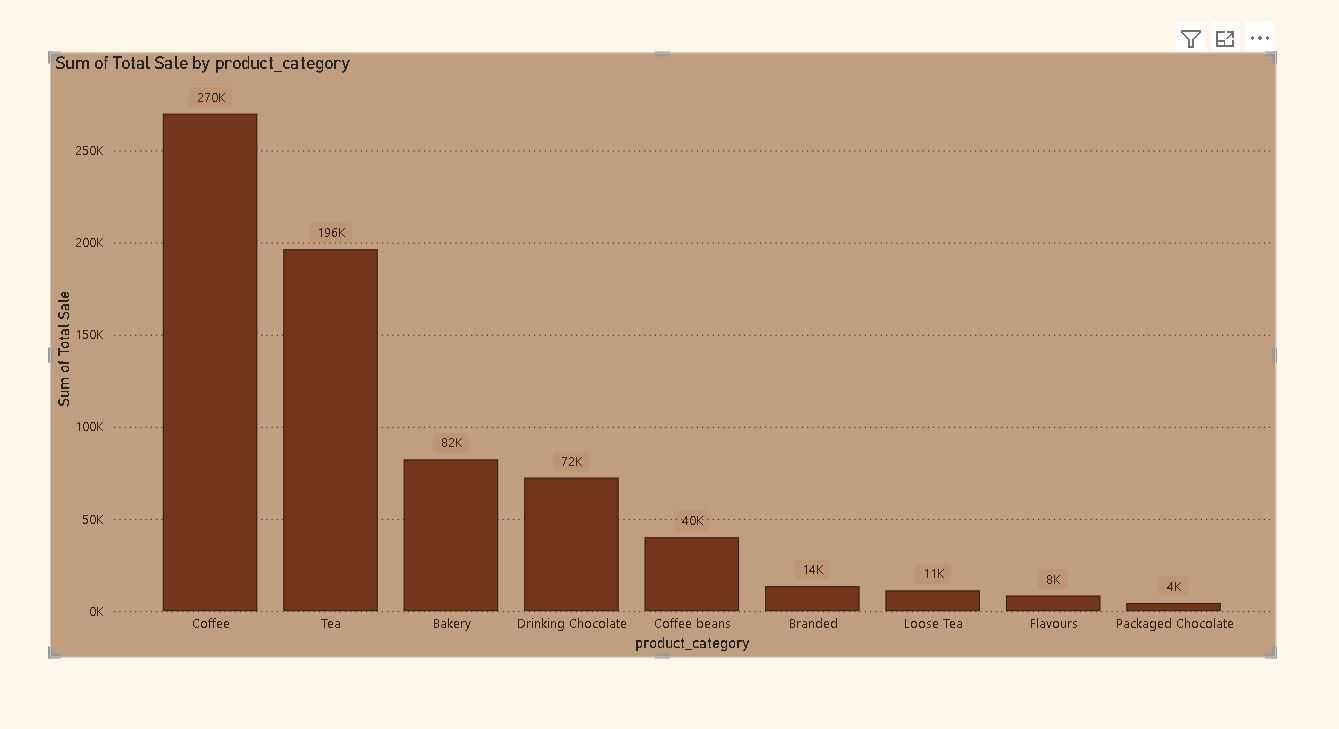

The page's visual inventory and layout, read from the dashboard file:
{"tool":"powerbi","page":{"name":"Product Category","canvas":[1280,720],"ordinal":1},"visuals":[{"type":"columnChart","fields":{"Category":["Transactions.product_category"],"Y":["Sum(Transactions.Total Sale)"]},"box":[48,64,1168,560],"z":0}]}

Visuals, with their boxes on the page's 1280x720 design canvas (x1, y1, x2, y2). These are canvas units, not pixel positions in the 1339x729 screenshot, which may show the page scaled, cropped or inside an application window:
columnChart - Transactions.product_category x Sum(Transactions.Total Sale): left=48, top=64, right=1216, bottom=624
